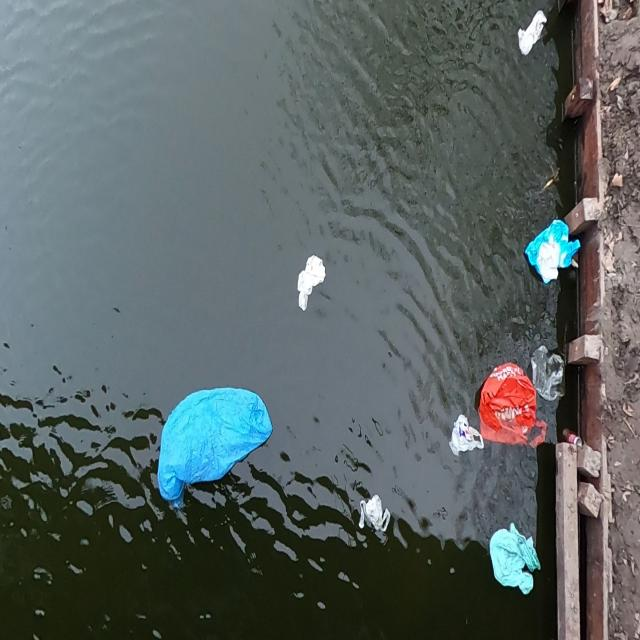Sac plastique: (142, 372, 280, 514), (468, 351, 553, 455), (517, 216, 582, 292), (484, 522, 546, 600), (524, 336, 572, 424), (290, 239, 332, 316), (356, 483, 396, 549), (447, 414, 488, 466)
